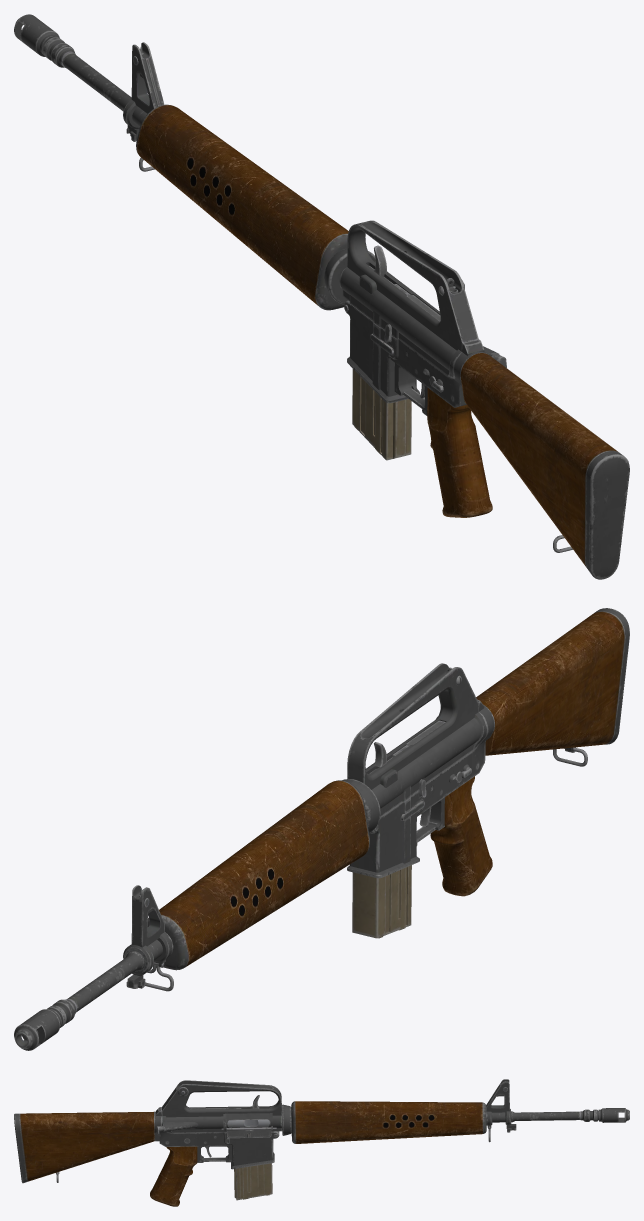
Rendered from rifle.glb.
The picture shows the model from 3 angles, top to bottom: view 1: azimuth 30°, elevation 25°; view 2: azimuth 150°, elevation 25°; view 3: azimuth 270°, elevation 25°; orthographic projection. The views are drawn at different scales.
Visible parts, largest first — view 1: Rifle; view 2: Rifle; view 3: Rifle.
Part boxes in pixels (bbox=[...]): Rifle: bbox=[14, 14, 629, 579]; Rifle: bbox=[14, 608, 629, 1050]; Rifle: bbox=[14, 1079, 629, 1206].
Bounding box in the file's own units: 0.3198 × 1.21 × 5.45.
1 material, 1 textured.
